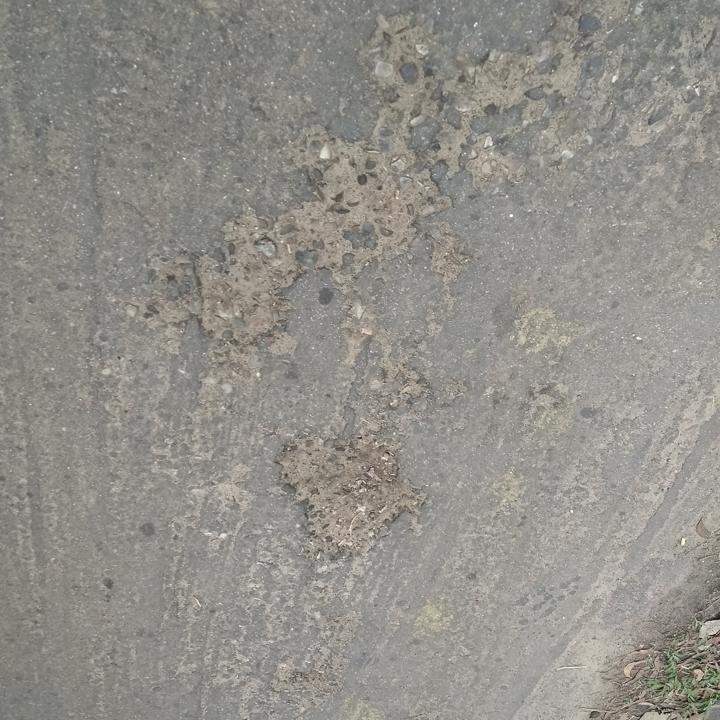pothole: (300, 136, 449, 284), (274, 425, 434, 562), (186, 210, 305, 354)
